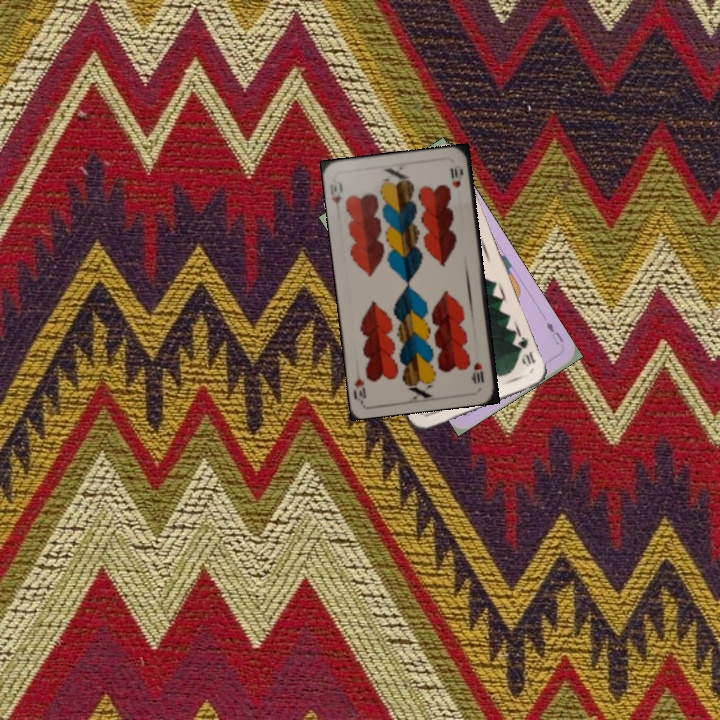EU: (542, 318, 566, 348)
G10: (512, 331, 539, 370)
H10: (326, 179, 345, 206), (470, 359, 486, 386)
